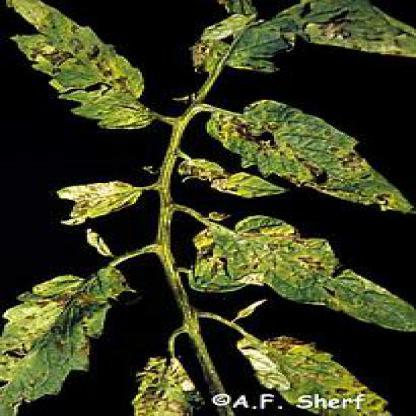Tomato Septoria leaf spot: (181, 214, 414, 340), (217, 102, 408, 216), (2, 256, 132, 414), (201, 2, 414, 87), (14, 1, 152, 124), (240, 332, 404, 414), (51, 178, 150, 224), (187, 158, 274, 207)
